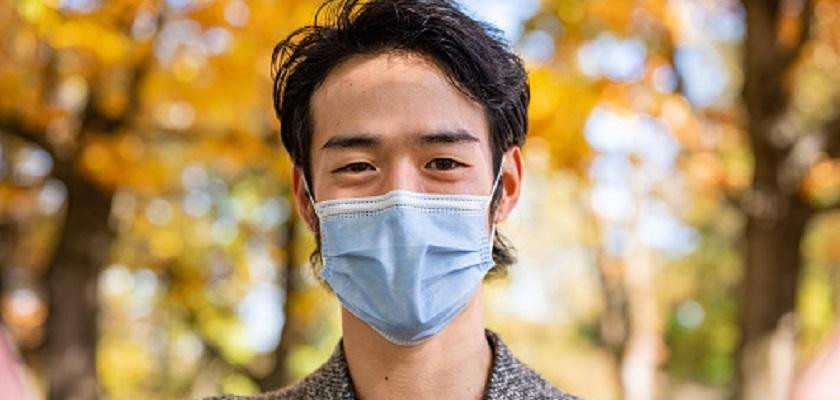mask: (301, 187, 501, 353)
